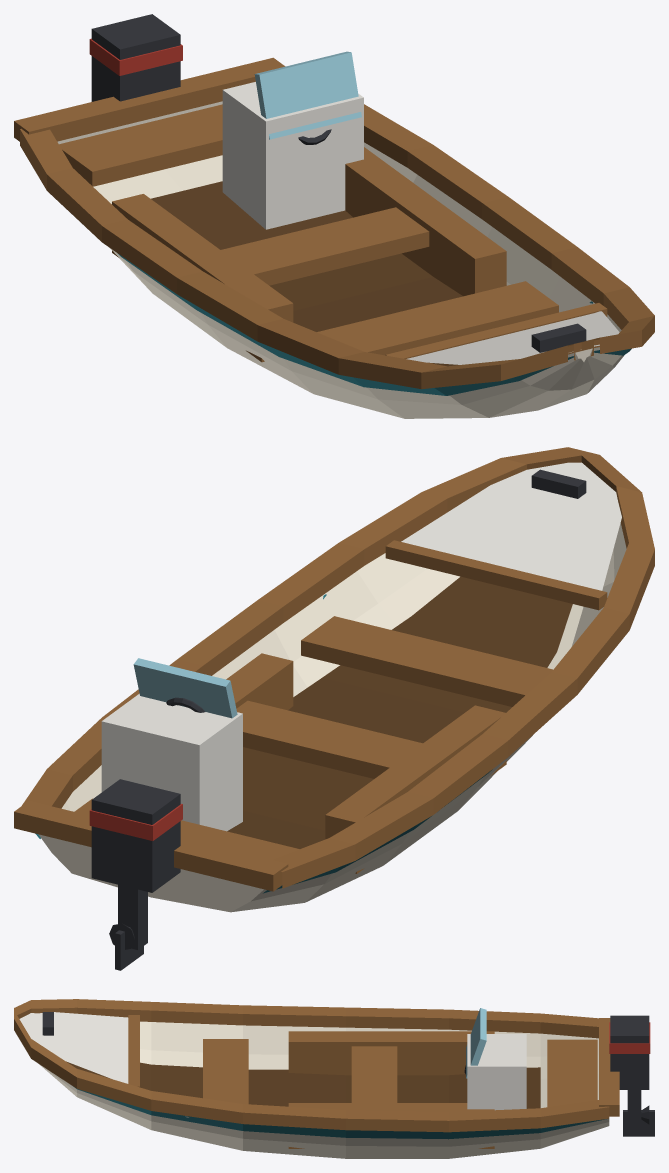
File: boat.glb
3 renders of one model, top to bottom at view 1: azimuth 30°, elevation 25°; view 2: azimuth 150°, elevation 25°; view 3: azimuth 270°, elevation 25°, orthographic. The views are drawn at different scales.
Visible parts, largest first — view 1: hull, gunwale_port, console, floor, gunwale_stbd, side_bench_r, bench_mid, bench_fwd, bench_stern, gunwale_transom, side_bench_l, windshield (+6 smaller); view 2: floor, hull, gunwale_port, gunwale_stbd, foredeck, console, bench_fwd, bench_mid, motor_cowl, gunwale_transom, side_bench_l, foredeck_edge (+6 smaller); view 3: hull, gunwale_stbd, gunwale_port, floor, side_bench_l, foredeck, console, bench_stern, stripe, bench_fwd, bench_mid, motor_cowl (+8 smaller).
Part boxes in pixels (x1,y1,x2,y2): hull: (57, 101, 624, 418); gunwale_port: (20, 128, 593, 389); console: (222, 82, 363, 229); floor: (151, 181, 462, 366); gunwale_stbd: (364, 104, 654, 360); side_bench_r: (345, 147, 506, 296); bench_mid: (221, 207, 429, 285); bench_fwd: (317, 281, 558, 355); bench_stern: (59, 104, 222, 186); gunwale_transom: (14, 57, 285, 141); side_bench_l: (112, 194, 293, 362); windshield: (254, 51, 361, 139); floor: (227, 576, 572, 848); hull: (38, 523, 626, 912); gunwale_port: (272, 448, 654, 888); gunwale_stbd: (22, 447, 592, 808); foredeck: (401, 462, 621, 590); console: (101, 693, 242, 831); bench_fwd: (301, 616, 552, 706); bench_mid: (236, 700, 422, 778); motor_cowl: (91, 779, 180, 892); gunwale_transom: (14, 801, 288, 891); side_bench_l: (325, 705, 506, 873); foredeck_edge: (385, 540, 607, 610); hull: (39, 1021, 609, 1158); gunwale_stbd: (14, 1010, 609, 1132); gunwale_port: (14, 999, 598, 1038); floor: (66, 1061, 540, 1108); side_bench_l: (288, 1031, 494, 1075); foredeck: (19, 1012, 128, 1083); console: (467, 1034, 526, 1110); bench_stern: (547, 1039, 597, 1107); stripe: (73, 1086, 606, 1139); bench_fwd: (203, 1039, 248, 1104); bench_mid: (351, 1046, 397, 1102); motor_cowl: (610, 1015, 649, 1089).
Size of the model in its own units: 2.3 by 1.28 by 5.6.
